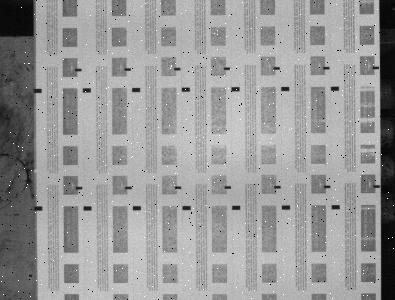qblock: (182, 205, 191, 210), (182, 87, 190, 92), (281, 86, 289, 91), (132, 87, 140, 92), (331, 86, 339, 91), (232, 205, 240, 210), (34, 88, 42, 93), (83, 206, 92, 210), (34, 206, 43, 210), (331, 205, 340, 209), (231, 87, 239, 91), (133, 206, 141, 210), (282, 205, 290, 209), (83, 88, 91, 92)
smallqblock: (174, 67, 181, 71), (323, 66, 330, 70), (274, 185, 281, 189), (125, 186, 132, 189), (75, 68, 82, 71), (124, 68, 131, 71), (273, 67, 280, 70), (76, 186, 83, 189), (224, 186, 231, 189), (324, 185, 331, 188), (373, 66, 379, 69), (224, 67, 230, 70), (175, 186, 181, 189), (374, 185, 380, 188)
